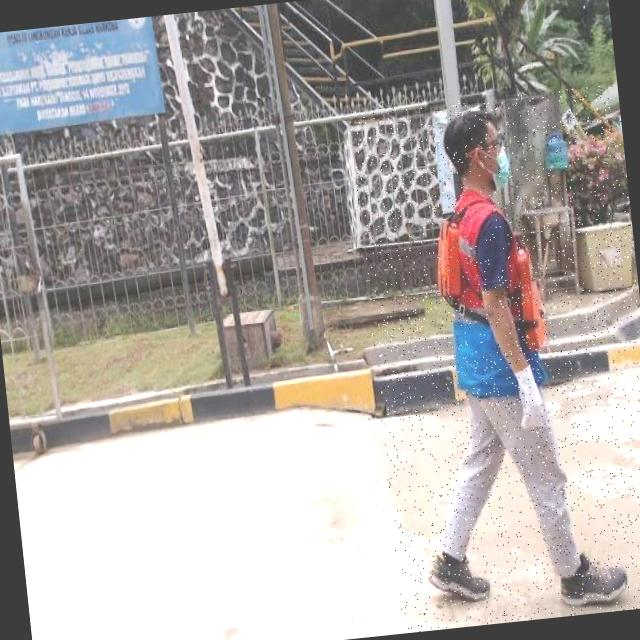boots: (555, 548, 632, 610), (426, 544, 496, 610)
vest: (428, 184, 555, 405)
